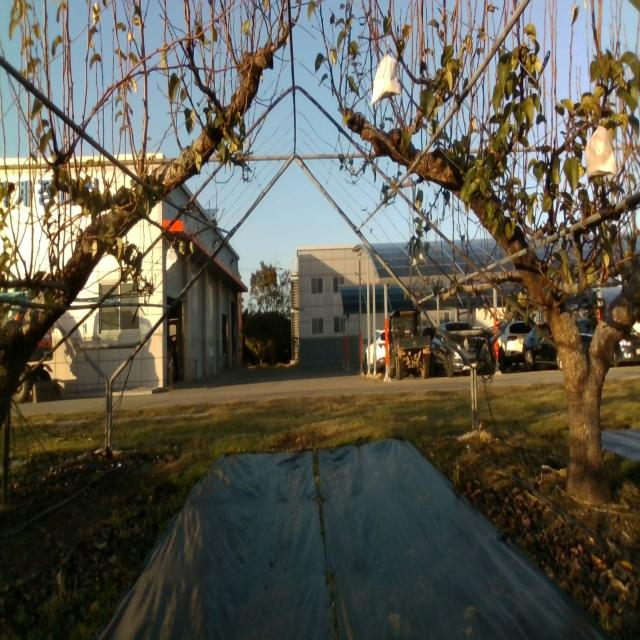pearbags: (370, 40, 403, 106), (585, 124, 617, 185), (412, 246, 428, 268), (166, 245, 178, 273)
